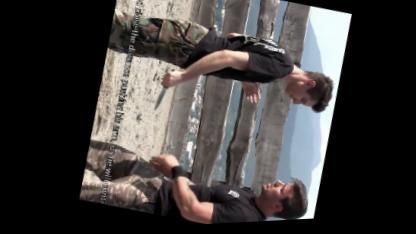knife: (146, 64, 182, 120)
